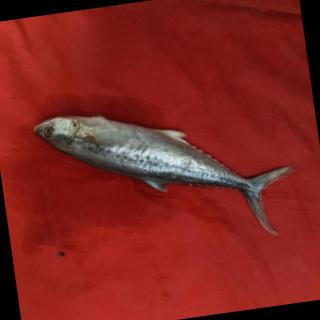Ikan: (27, 82, 314, 273)
